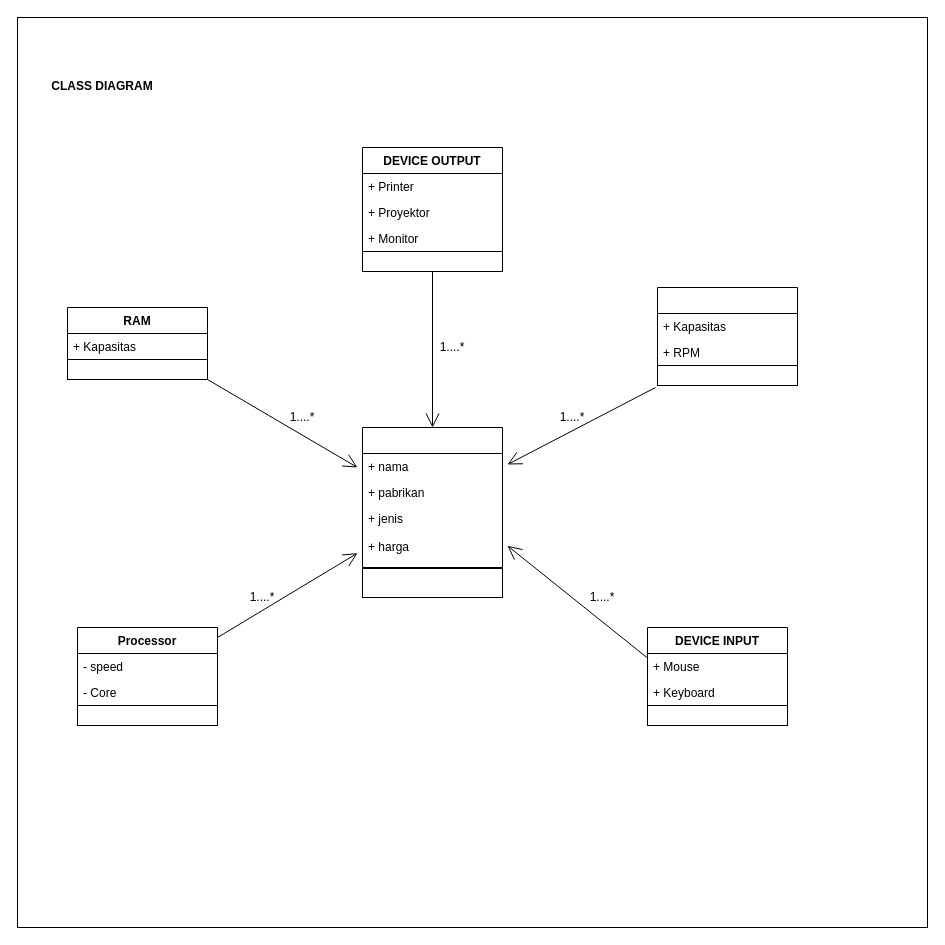
This 945x945 diagram has some shape labels left out. The box of each missing label's shape, as (x1, y1, x2, y2) in pixels:
COMPUTER: (362, 426, 502, 568)
HARDDISK: (656, 286, 798, 366)
